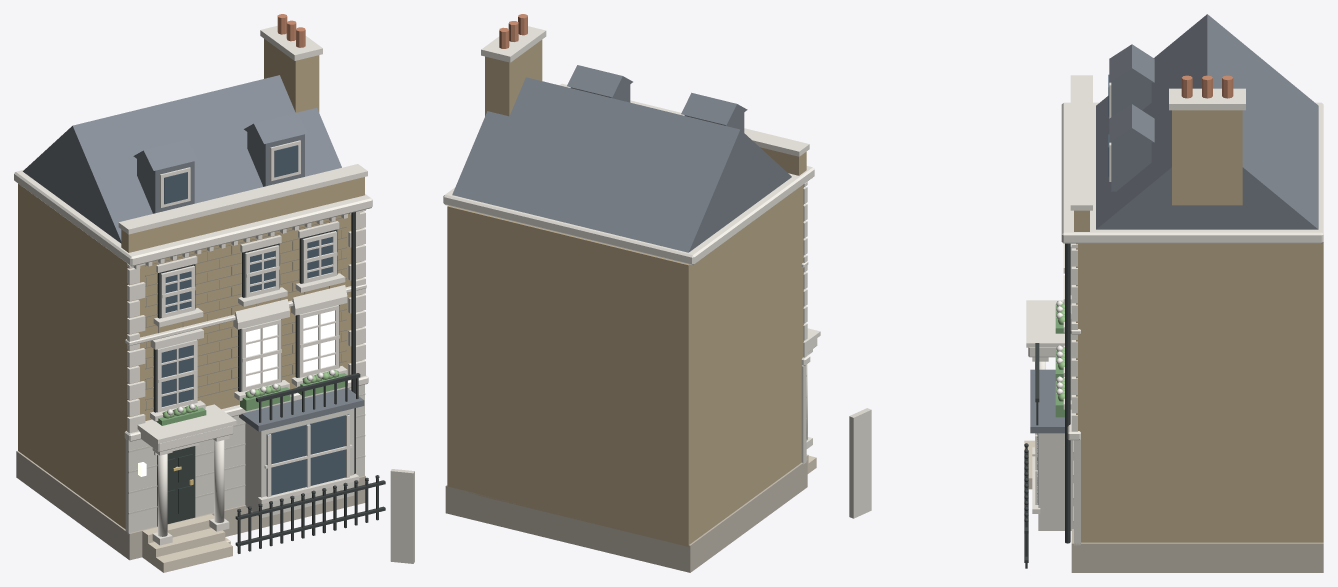
File: terrace-a-3.glb
The picture shows the model from 3 angles, left to right: view 1: azimuth 30°, elevation 25°; view 2: azimuth 150°, elevation 25°; view 3: azimuth 270°, elevation 25°; orthographic projection. The views are drawn at different scales.
Parts seen in each view (by area): view 1: terrace-a-3; view 2: terrace-a-3; view 3: terrace-a-3.
Part boxes in pixels (bbox=[...]): terrace-a-3: bbox=[14, 14, 414, 572]; terrace-a-3: bbox=[443, 14, 820, 572]; terrace-a-3: bbox=[849, 14, 1323, 572].
Bounding box in the file's own units: 3.08 × 5.32 × 4.69.
